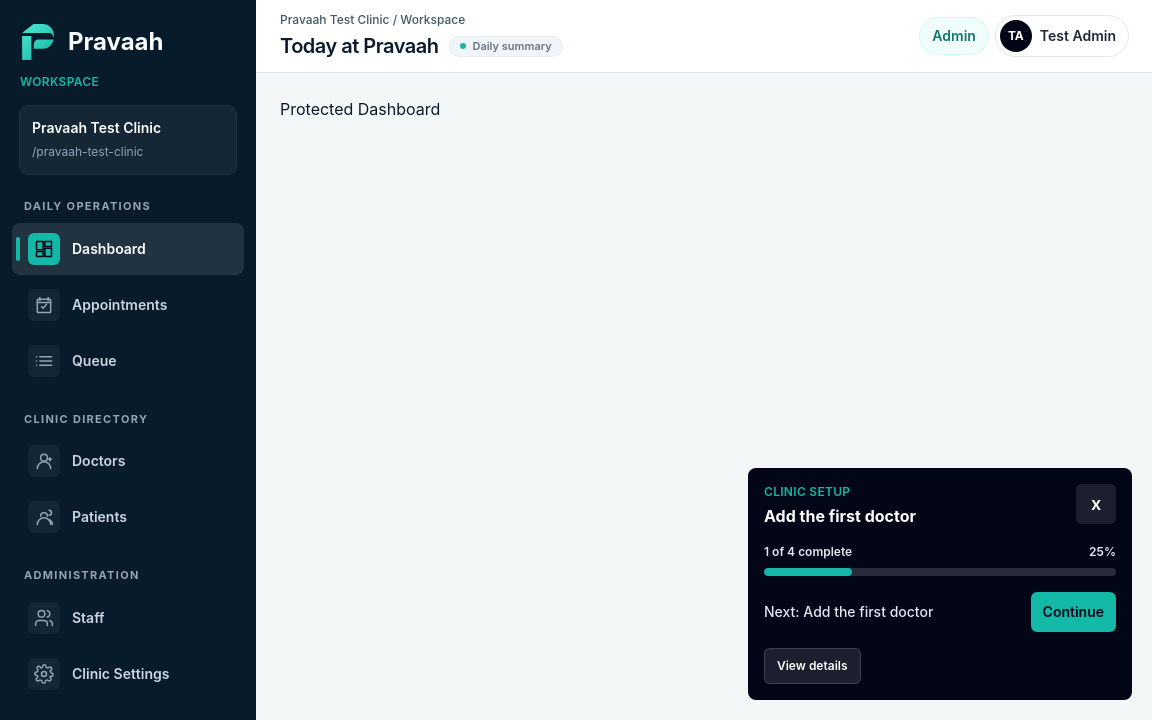
ProtectedAppShell › opens and closes the profile menu with outside click and Escape
Check: the heading "Protected Dashboard" is shown, box [280,99,440,119]
Click the button "TA Test Admin" at (1062, 36), box [996,16,1128,56]
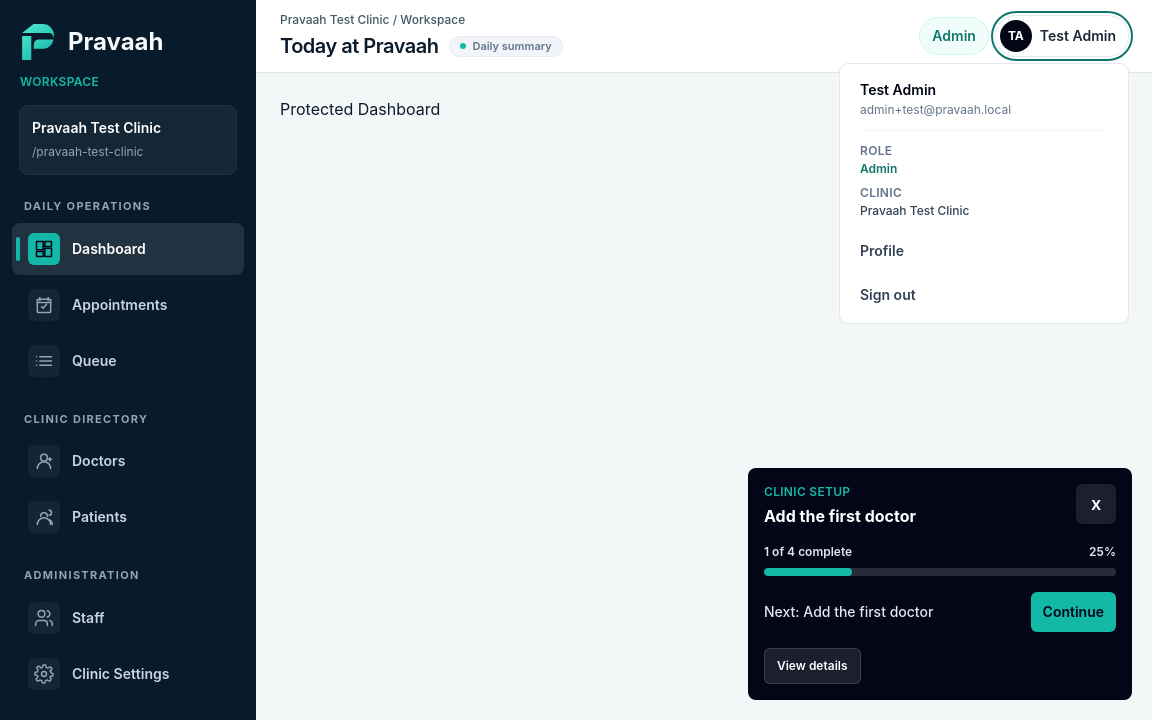
Check: the element with id "workspace-user-menu" is shown, box [840,64,1128,323]
Click the element that starts with "Pravaah" at (576, 360), box [0,0,1151,719]
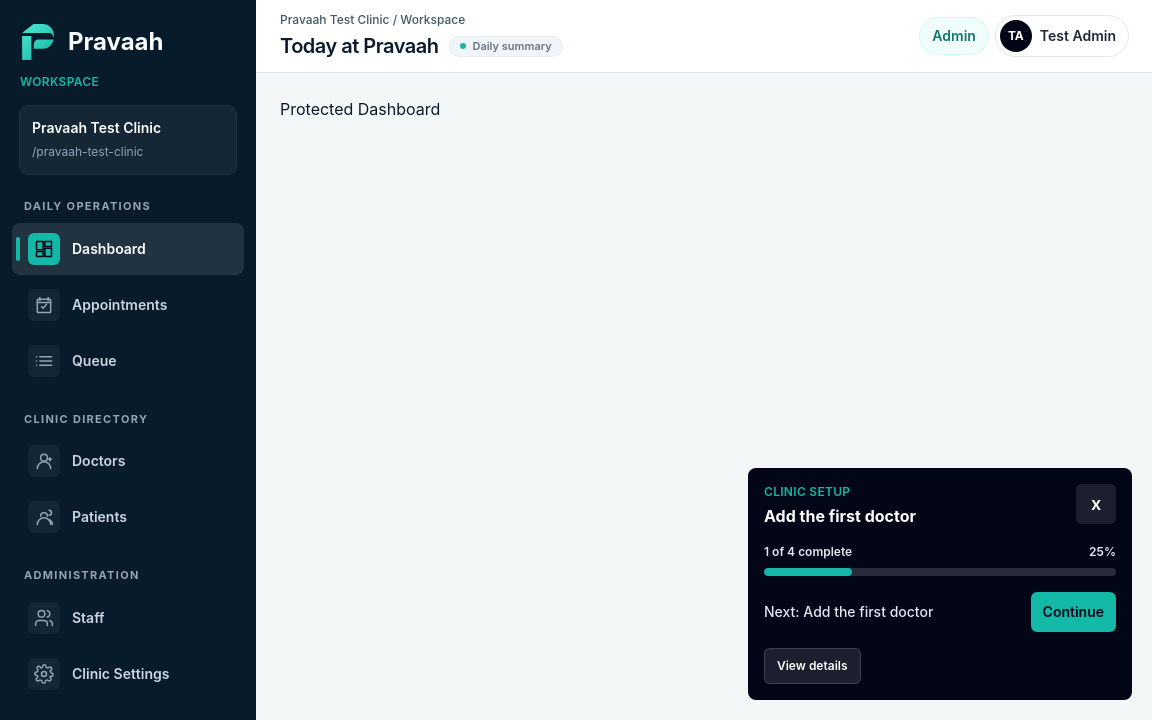
Check: the element with id "workspace-user-menu" is gone
Click the button "TA Test Admin" at (1062, 36), box [996,16,1128,56]
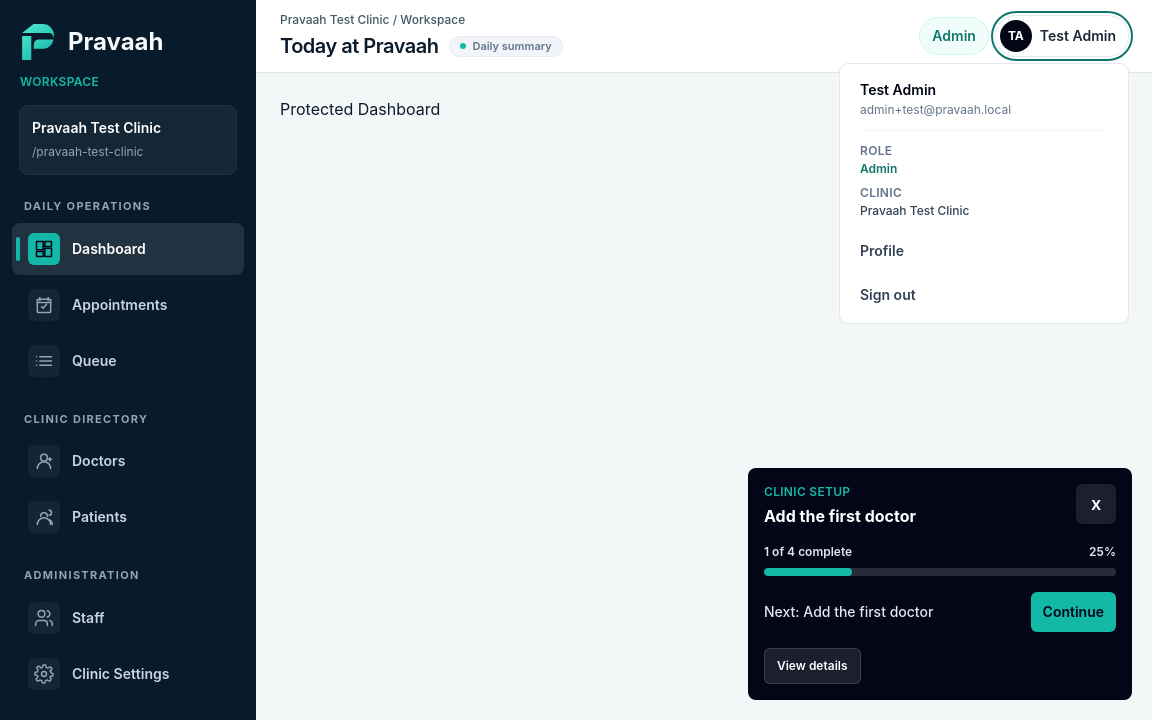
Check: the element with id "workspace-user-menu" is shown, box [840,64,1128,323]
Press Escape
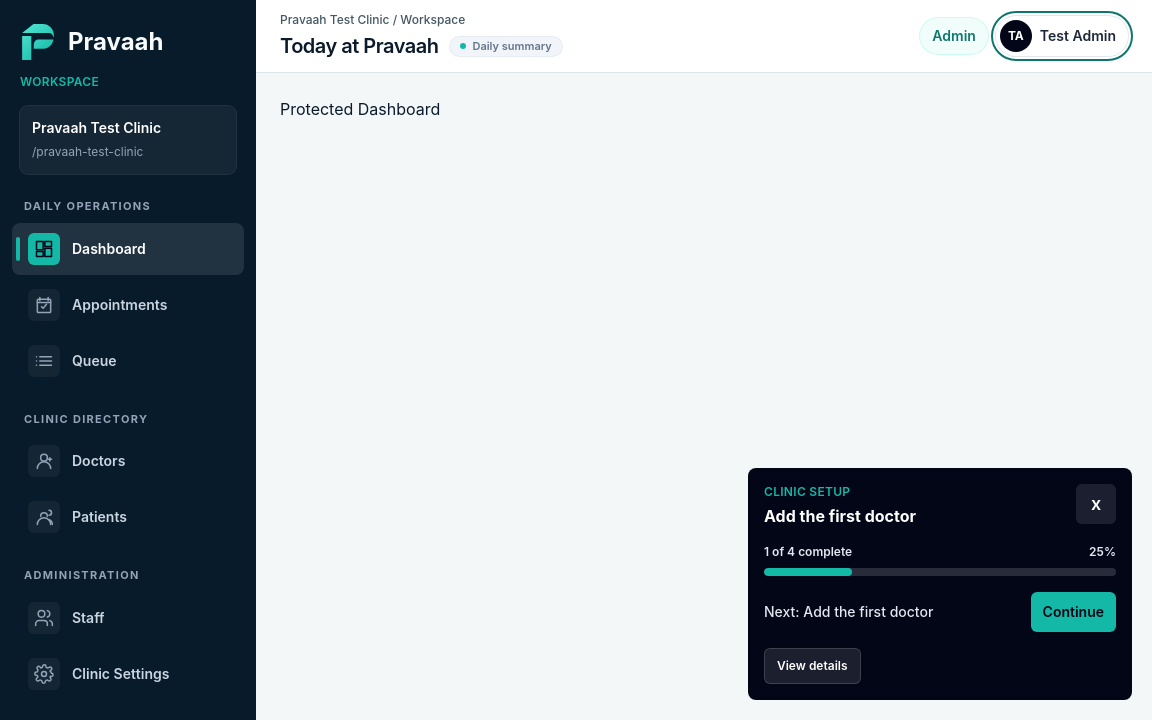
Check: the element with id "workspace-user-menu" is gone
